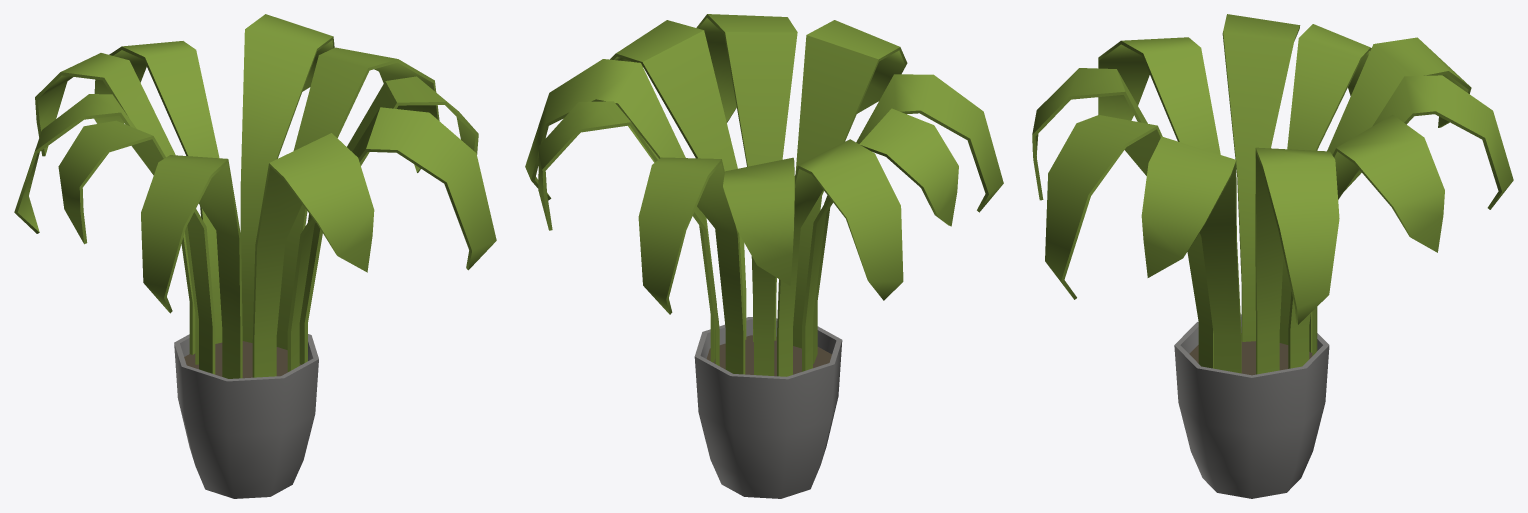
File: Houseplant-dveIJ0xNpX.glb
3 views of the same model, side by side, from view 1: azimuth 30°, elevation 25°; view 2: azimuth 150°, elevation 25°; view 3: azimuth 270°, elevation 25° (orthographic). The views are drawn at different scales.
Parts seen in each view (by area): view 1: Houseplant-dveIJ0xNpX; view 2: Houseplant-dveIJ0xNpX; view 3: Houseplant-dveIJ0xNpX.
Boxes of the visible parts, x1,y1,x2,y2 form: Houseplant-dveIJ0xNpX: [14, 14, 496, 498]; Houseplant-dveIJ0xNpX: [525, 14, 1003, 498]; Houseplant-dveIJ0xNpX: [1032, 14, 1513, 498].
Size of the model in its own units: 1.04 by 0.9586 by 1.05.
